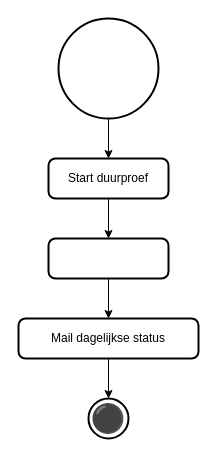
The diagram is 216 pixels wide and 456 high, and some of its shapes have lost their labels. The centre of each missing label's shape, as x and y in pixels:
"Registreer uren" belongs at (108,258).
"Werkdag beëindigd" belongs at (108,68).
